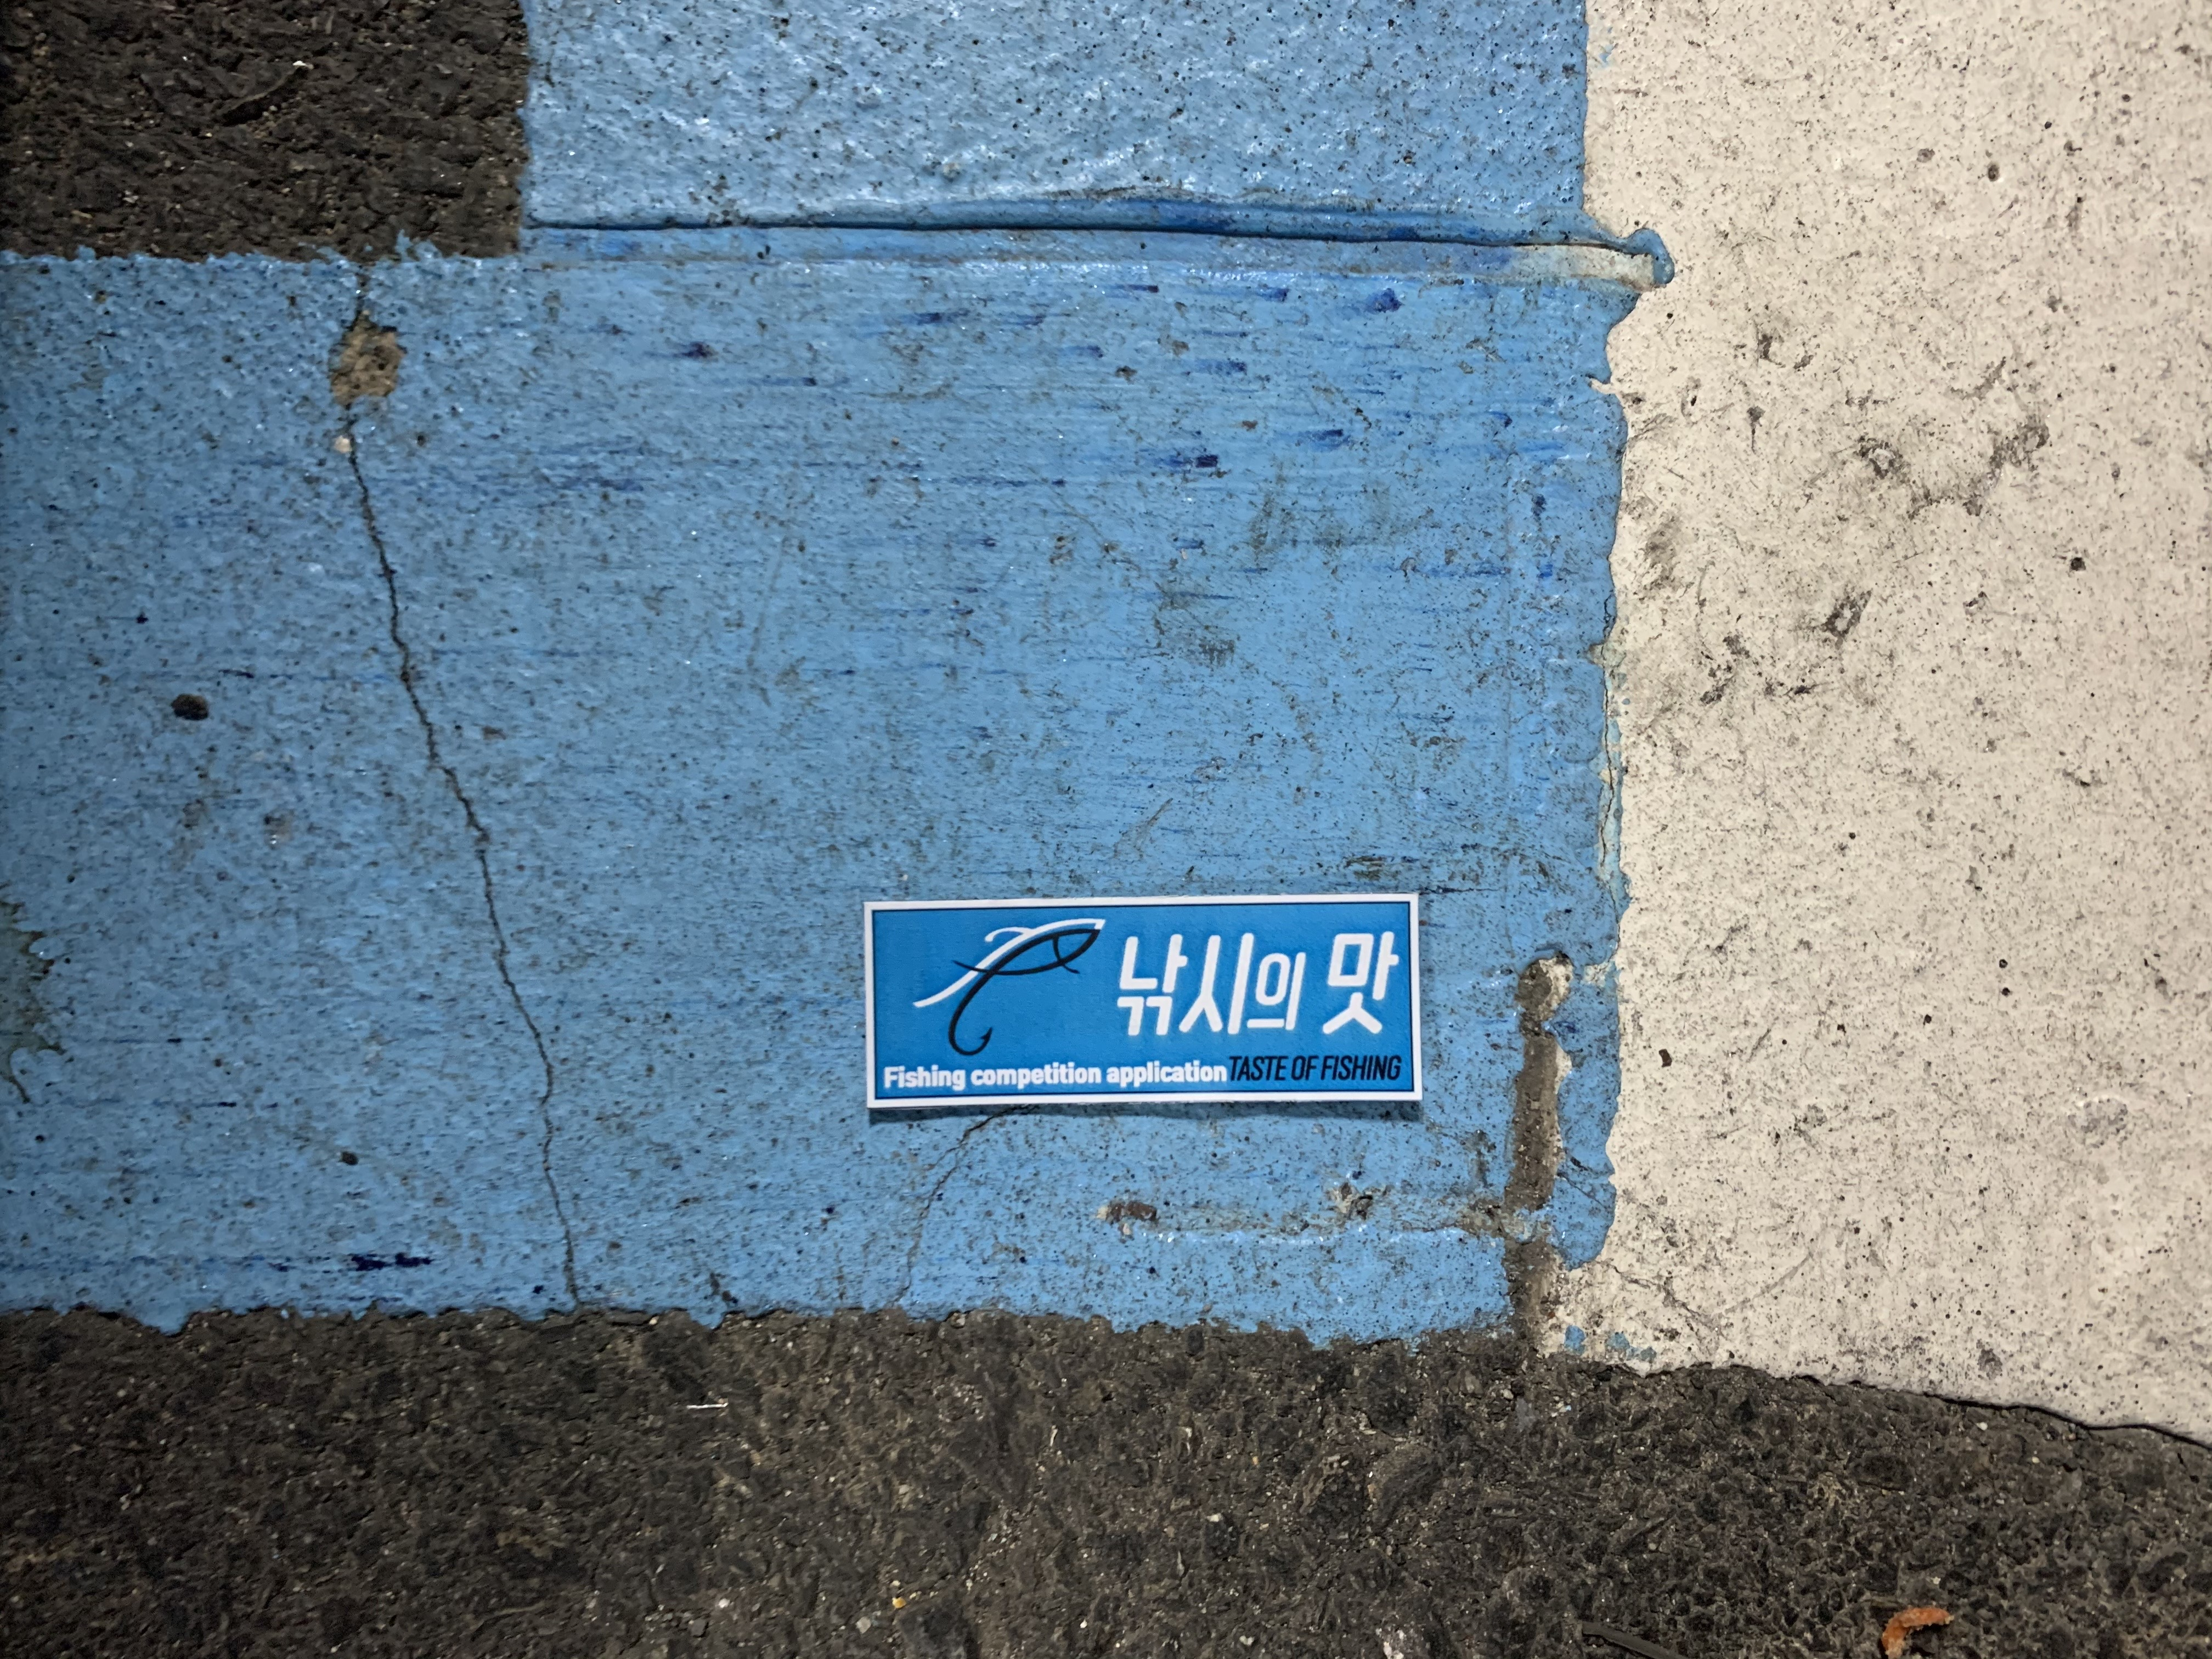tag: (862, 892, 1421, 1122)
